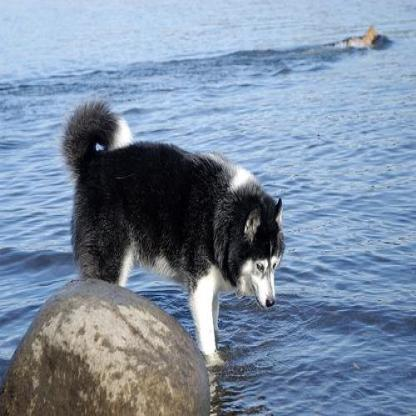Siberian_husky: (56, 98, 288, 372)
